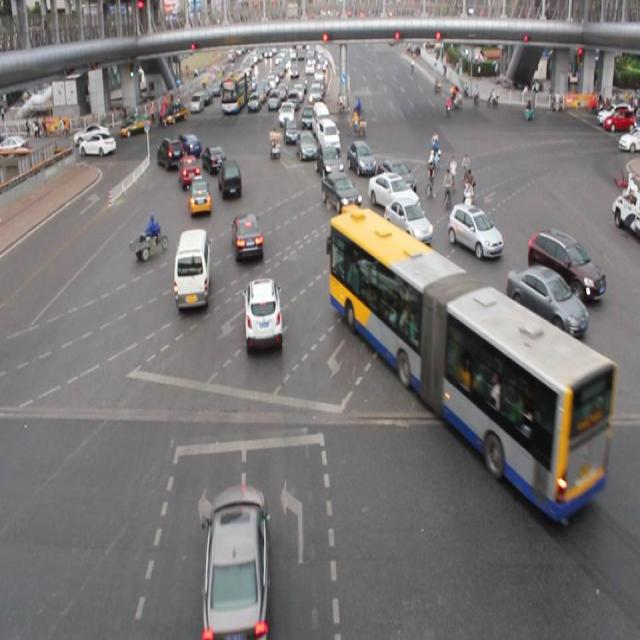car: (205, 482, 273, 640), (506, 263, 584, 333), (526, 228, 602, 298), (446, 201, 502, 256), (243, 276, 283, 351), (384, 197, 432, 243), (367, 171, 418, 212), (231, 212, 264, 263), (320, 170, 359, 213), (375, 158, 416, 193), (346, 138, 376, 176), (218, 160, 243, 201), (316, 144, 343, 178), (78, 132, 116, 156), (188, 176, 212, 214), (155, 138, 185, 168), (178, 154, 200, 189), (201, 144, 226, 174), (295, 130, 317, 162), (178, 133, 202, 156)
truck: (173, 226, 211, 310)
van: (328, 214, 611, 521)
